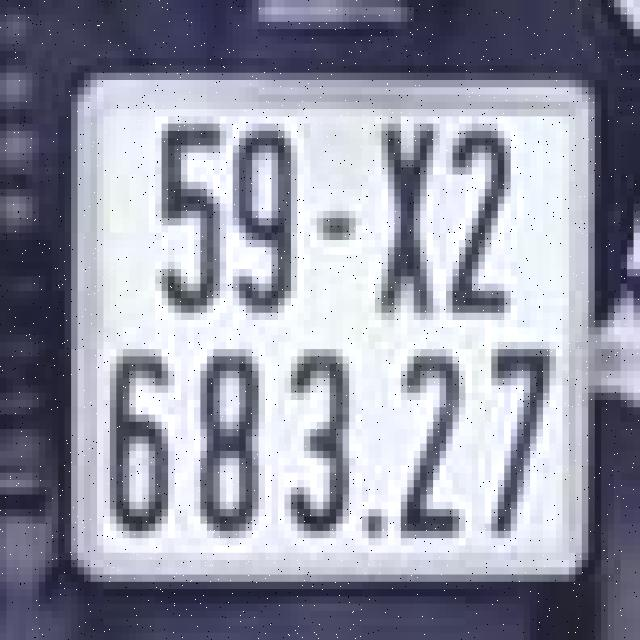2: (385, 342, 475, 553), (443, 116, 520, 320)
3: (281, 342, 359, 545)
5: (146, 116, 230, 320)
6: (91, 346, 181, 534)
7: (482, 342, 566, 553)
8: (184, 342, 268, 545)
9: (236, 109, 307, 320)
X: (365, 109, 443, 335)
